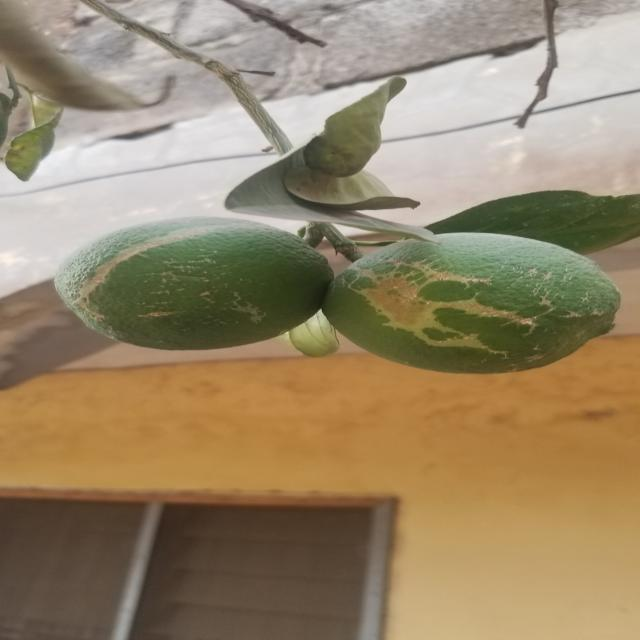Unripe: (327, 232, 620, 376), (59, 217, 333, 351)
